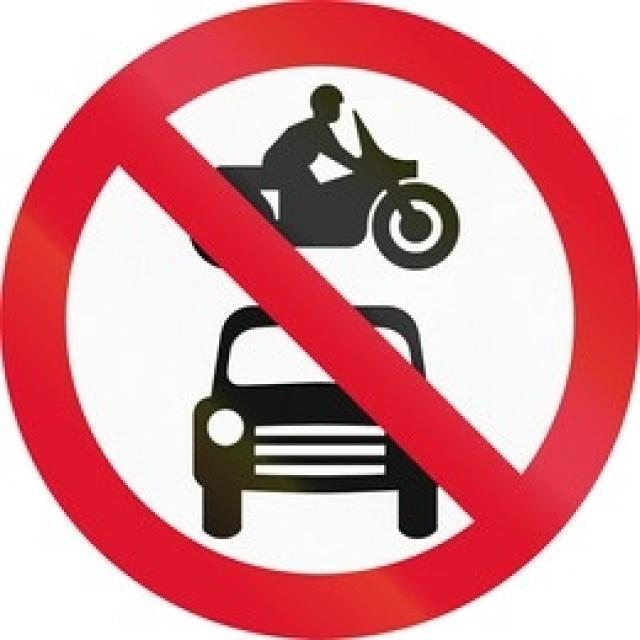all motor vehicle prohibited: (22, 18, 621, 612)
